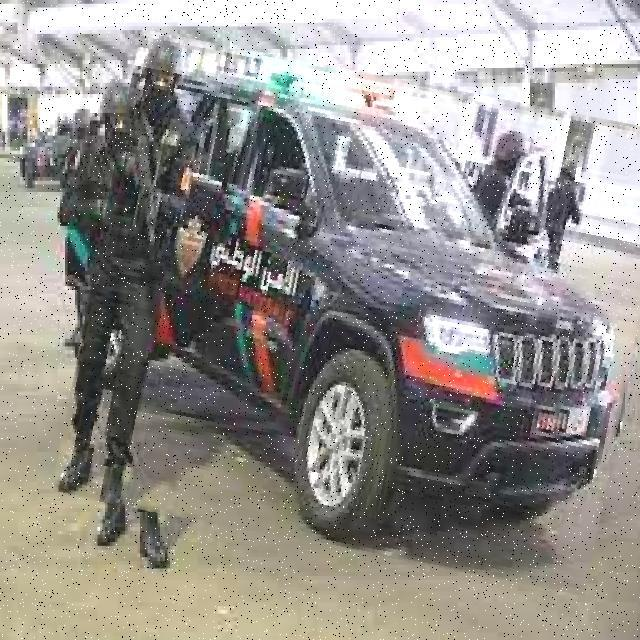police: (70, 52, 640, 572)
